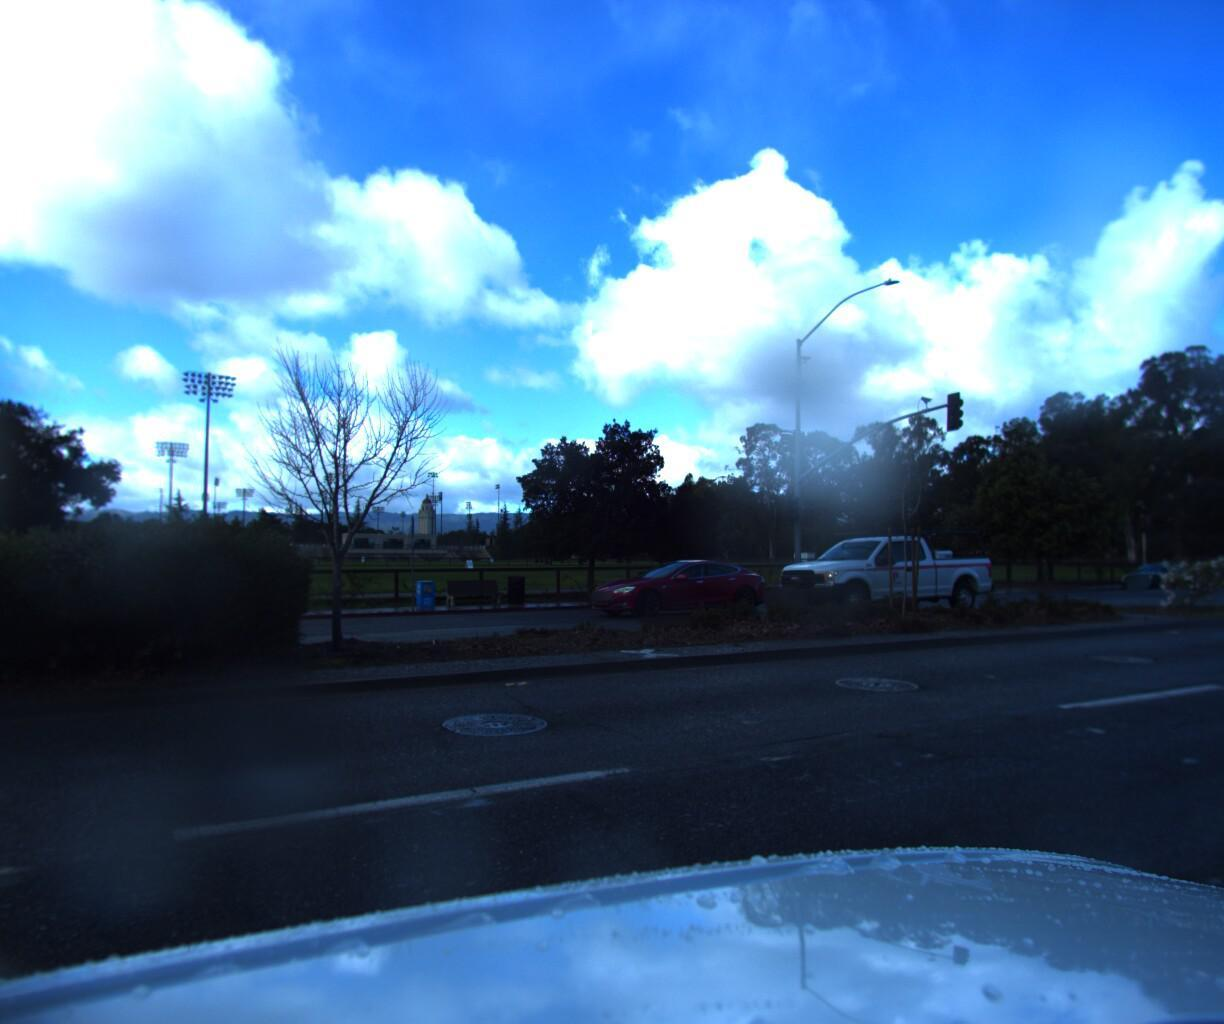car: (759, 529, 998, 621), (574, 564, 777, 627), (1098, 562, 1194, 595), (1223, 565, 1224, 591)
